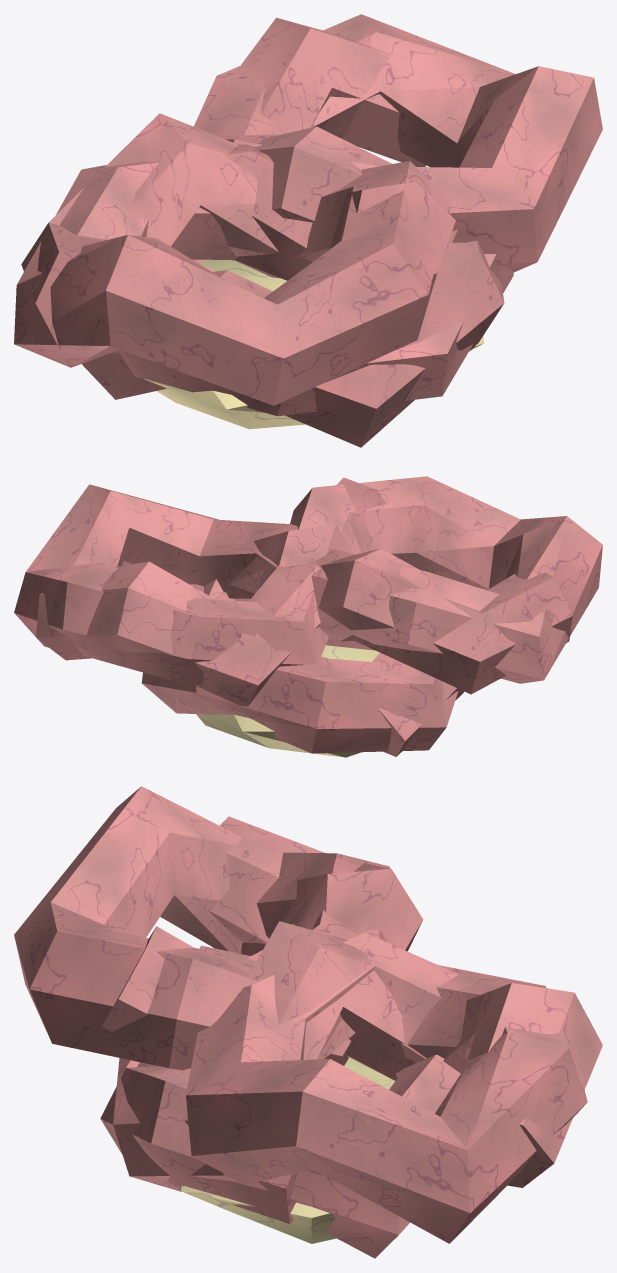
File: gut_cluster.glb
3 views of the same model, one above another, from view 1: azimuth 30°, elevation 25°; view 2: azimuth 150°, elevation 25°; view 3: azimuth 270°, elevation 25° (orthographic). The views are drawn at different scales.
Visible parts, largest first — view 1: OUT; view 2: OUT; view 3: OUT.
Boxes of the visible parts, <box> form: OUT: <box>14,14,602,447</box>; OUT: <box>14,476,602,757</box>; OUT: <box>14,786,602,1258</box>.
Size of the model in its own units: 0.2865 by 0.1259 by 0.2346.
Materials: 2 (2 with a texture image).
